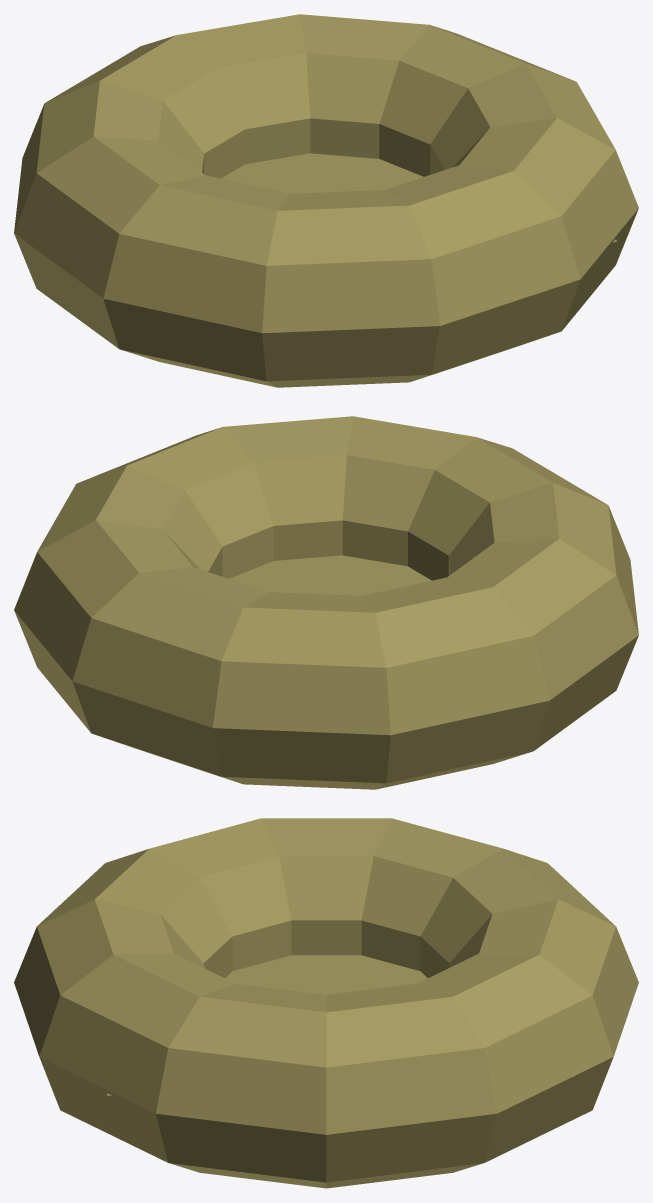
Rendered from кубло.dae.
3 views of the same model, one above another, from view 1: azimuth 30°, elevation 25°; view 2: azimuth 150°, elevation 25°; view 3: azimuth 270°, elevation 25° (orthographic).
Parts seen in each view (by area): view 1: Torus, Plane.002; view 2: Torus, Plane.002; view 3: Torus, Plane.002.
Boxes of the visible parts, bbox=[...] form: Torus: bbox=[14, 14, 638, 387]; Plane.002: bbox=[221, 153, 617, 242]; Torus: bbox=[14, 416, 638, 789]; Plane.002: bbox=[229, 555, 431, 595]; Torus: bbox=[14, 818, 638, 1188]; Plane.002: bbox=[107, 955, 427, 1095].
Bounding box in the file's own units: 0.627 × 0.6335 × 0.197.
